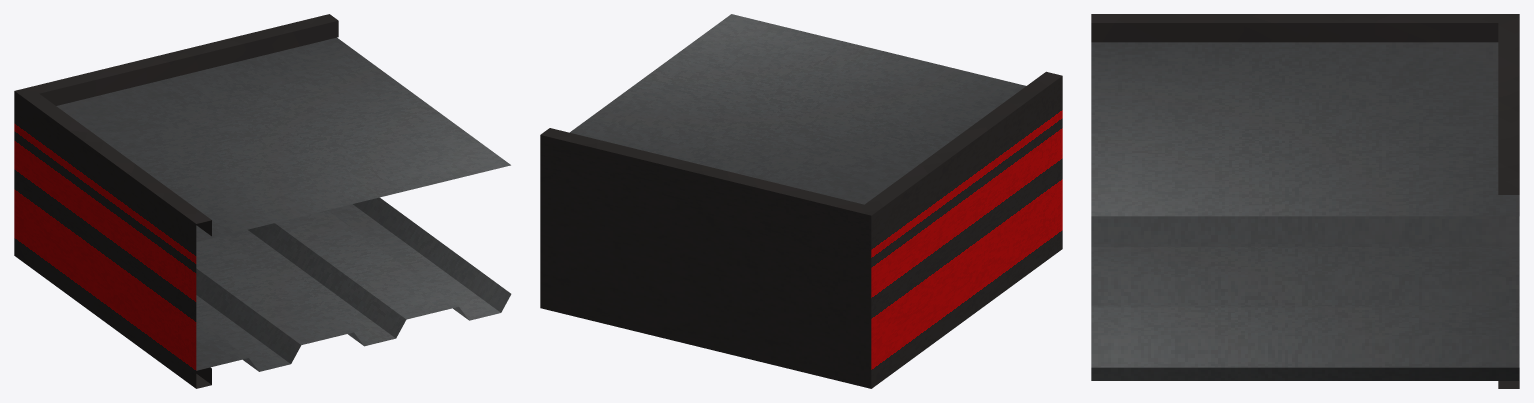
The model's file is GasRoof_6.glb.
3 views of the same model, side by side, from view 1: azimuth 30°, elevation 25°; view 2: azimuth 150°, elevation 25°; view 3: azimuth 270°, elevation 25° (orthographic). The views are drawn at different scales.
Parts seen in each view (by area): view 1: GasRoof_6.001; view 2: GasRoof_6.001; view 3: GasRoof_6.001.
Part boxes in pixels (x1,y1,x2,y2): GasRoof_6.001: (14,14,511,388); GasRoof_6.001: (540,14,1062,388); GasRoof_6.001: (1091,14,1519,388).
Size of the model in its own units: 2 by 1 by 2.
Materials: 1 (1 with a texture image).
